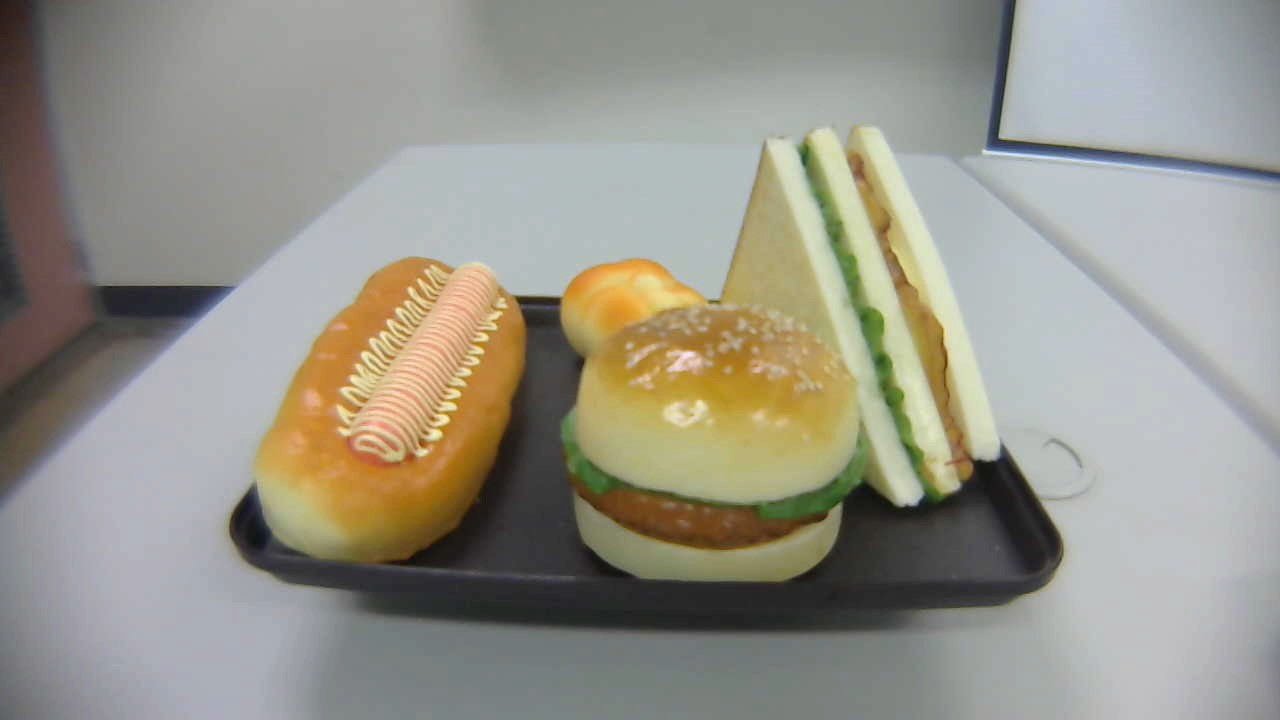hamburger: (562, 304, 854, 582)
hot dog: (253, 256, 528, 564)
sandwich: (717, 126, 1002, 506)
twist bread: (558, 260, 717, 366)
